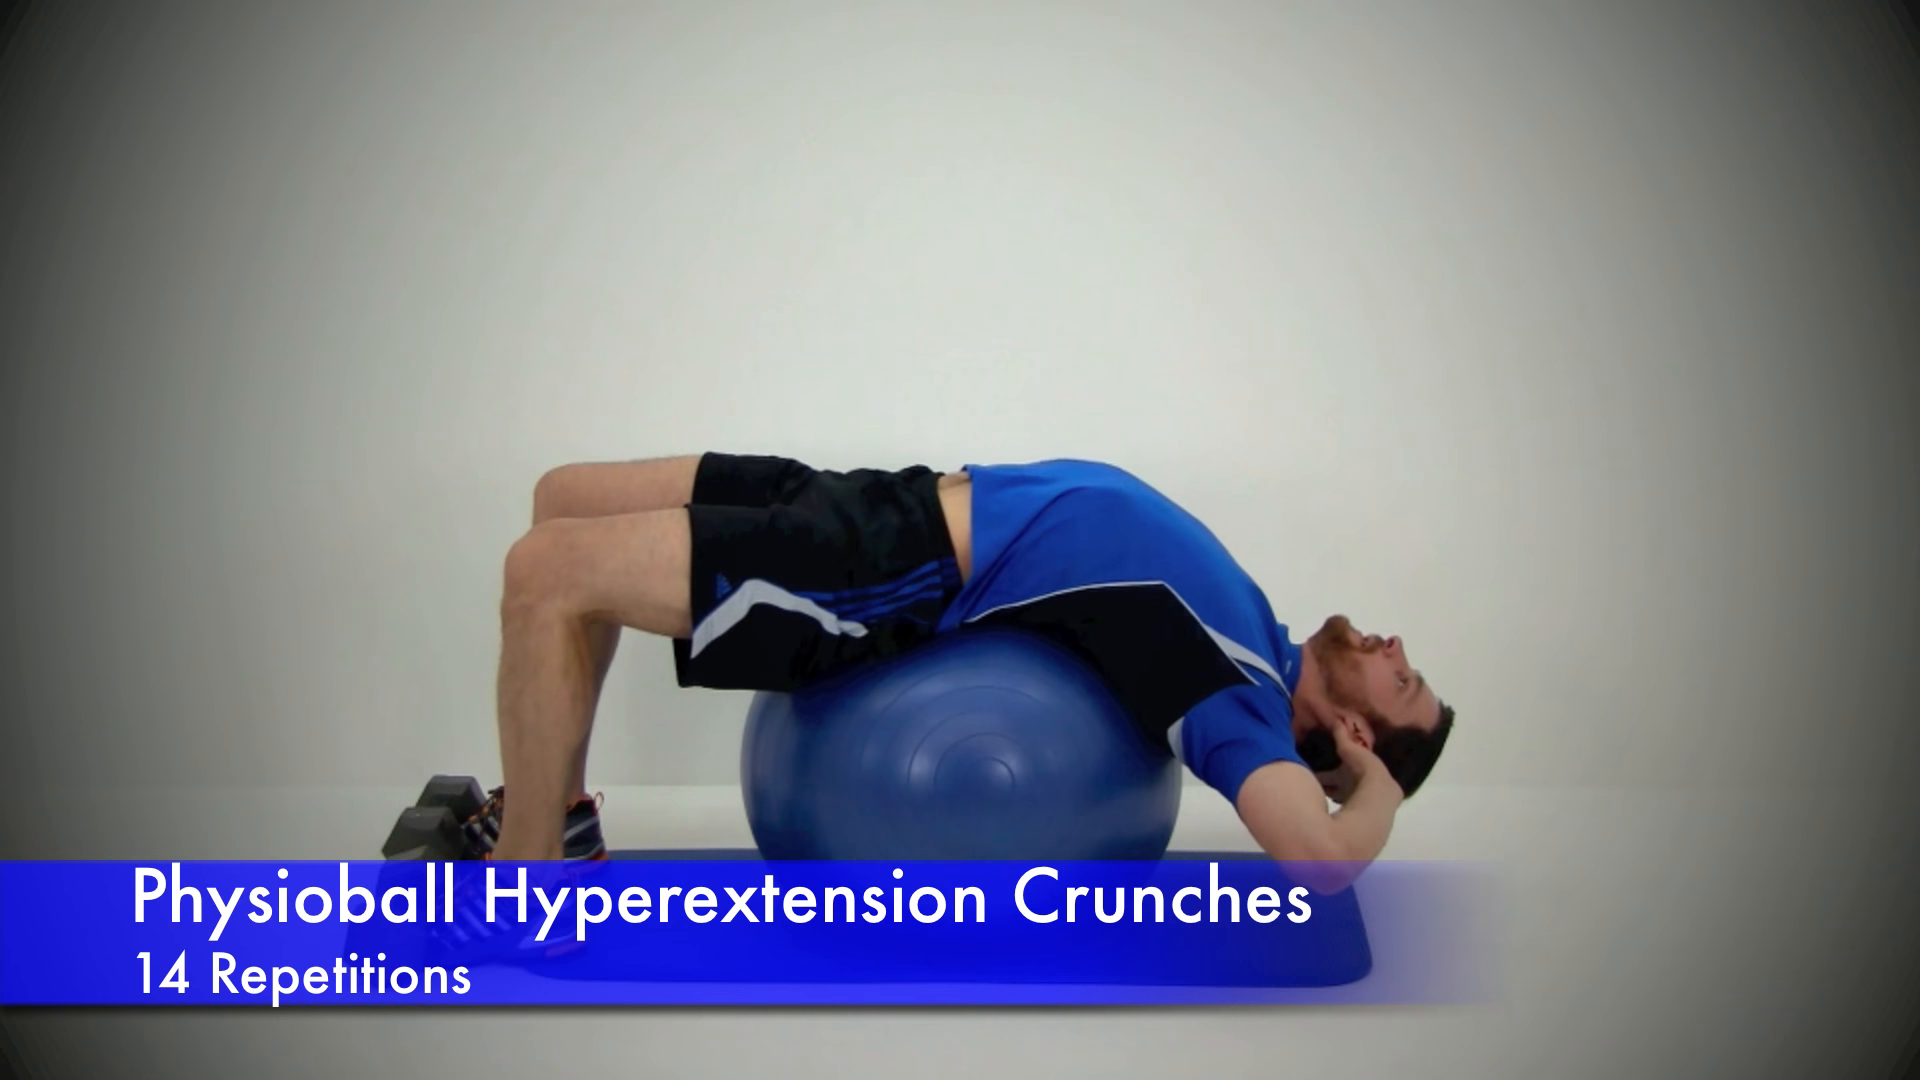yogaball: (723, 618, 1203, 951)
